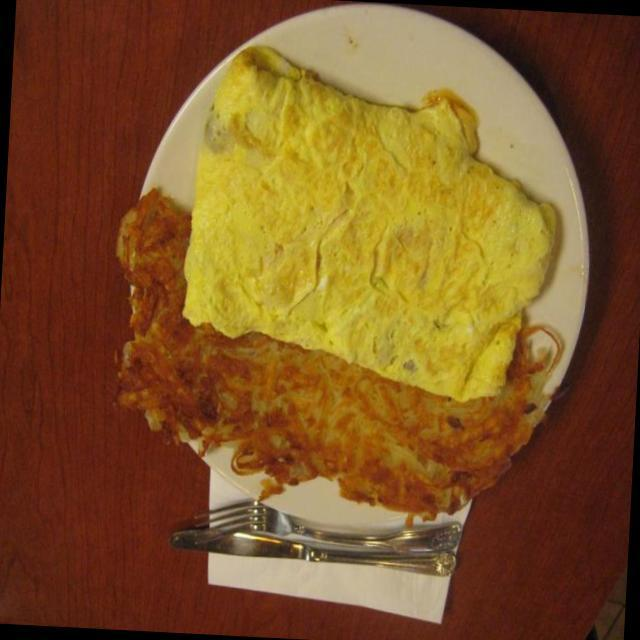Omelet: (150, 41, 595, 426)
